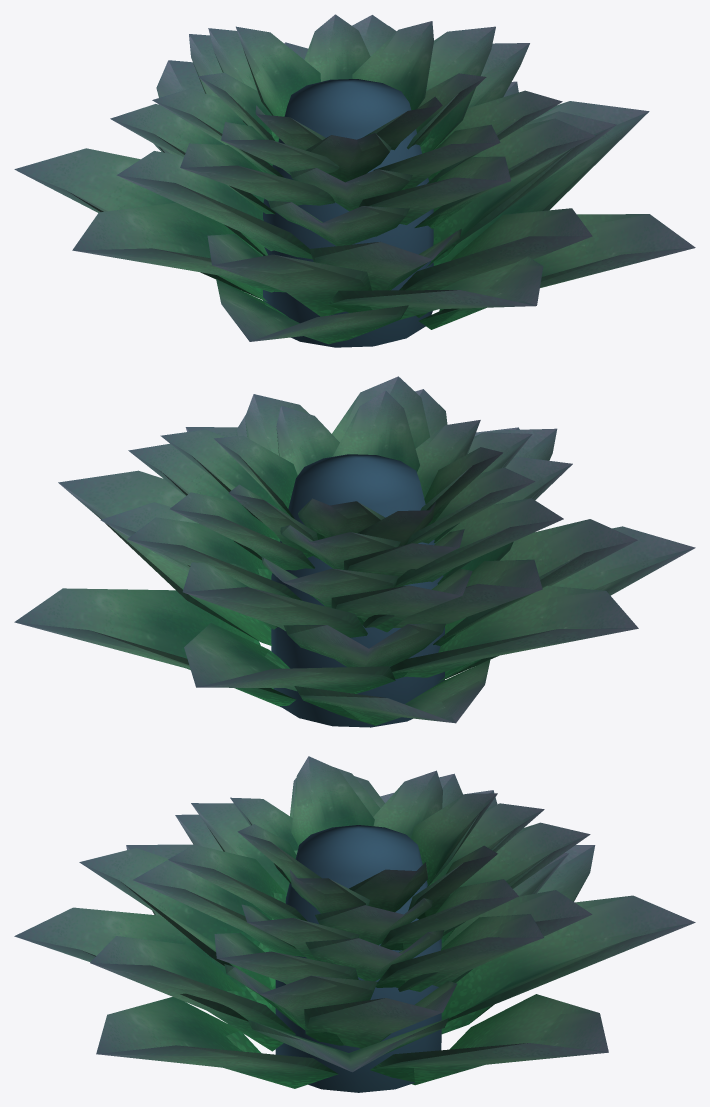
The model's file is succ1.fbx.
The picture shows the model from 3 angles, top to bottom: view 1: azimuth 30°, elevation 25°; view 2: azimuth 150°, elevation 25°; view 3: azimuth 270°, elevation 25°; orthographic projection. The views are drawn at different scales.
Parts seen in each view (by area): view 1: lowSucc1; view 2: lowSucc1; view 3: lowSucc1.
Boxes of the visible parts, bbox=[...] form: lowSucc1: bbox=[14, 14, 695, 347]; lowSucc1: bbox=[14, 376, 695, 727]; lowSucc1: bbox=[14, 756, 695, 1092].
Bounding box in the file's own units: 1.75 × 0.7608 × 1.8.
